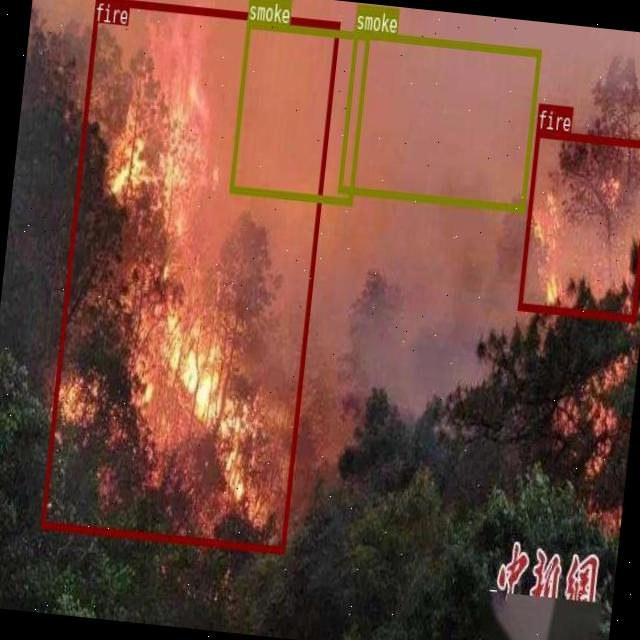fire: (38, 0, 339, 552), (516, 127, 640, 320)
smoke: (338, 29, 540, 211), (229, 19, 369, 202)
